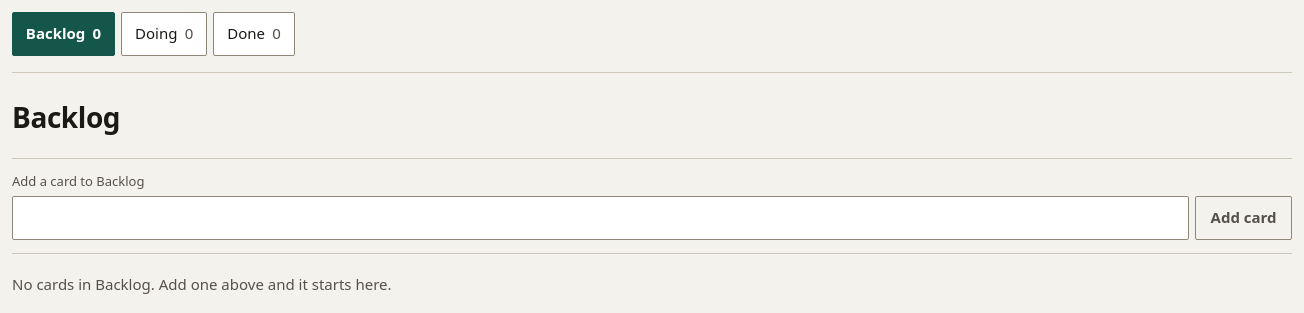
Test case: Board › says why Doing is empty and what fills it
expect the heading "Backlog" is shown: met, box [12,98,120,136]
Click the button "Doing 0".
click(164, 34)  # box [121,12,207,56]
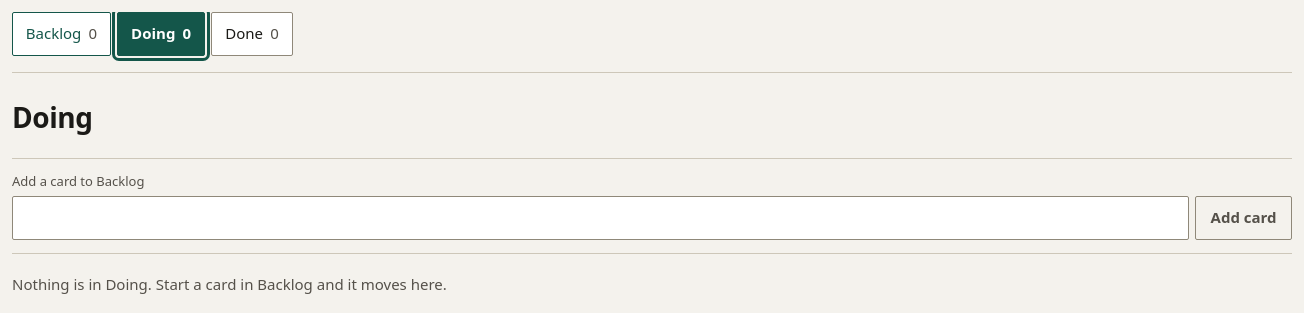
expect the text "Nothing is in Doing. Start a card in Backlog and it moves here." is shown: met, box [12,274,475,296]
